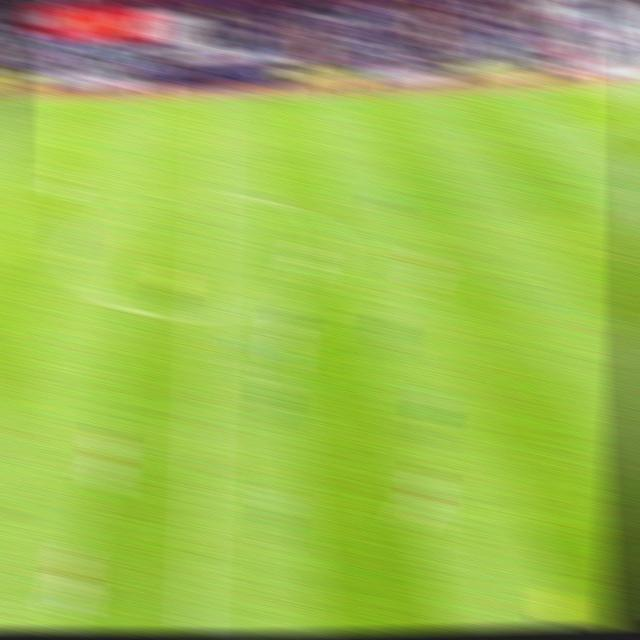bigarea_top_inner: (572, 113, 606, 151)
halfcircle_bottom: (182, 295, 227, 339)
halfcircle_top: (189, 179, 233, 219)
midline_top_intersection: (194, 76, 234, 119)
